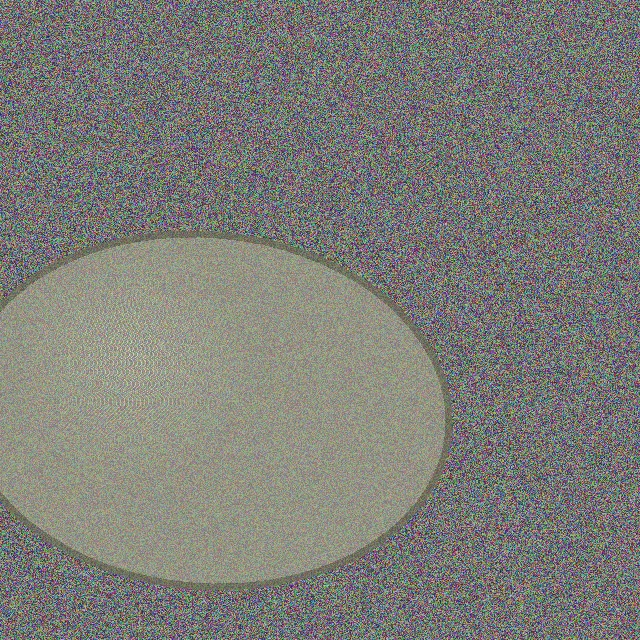lens: (0, 235, 448, 585)
